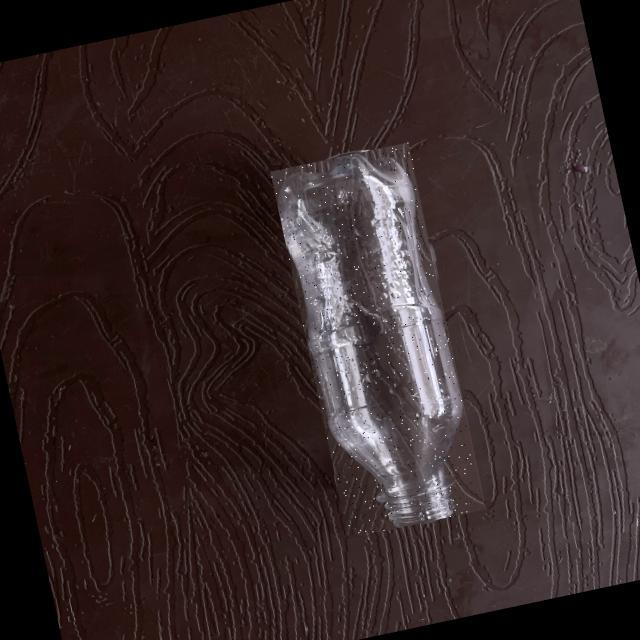PET_With_Liquid: (279, 154, 462, 495)
